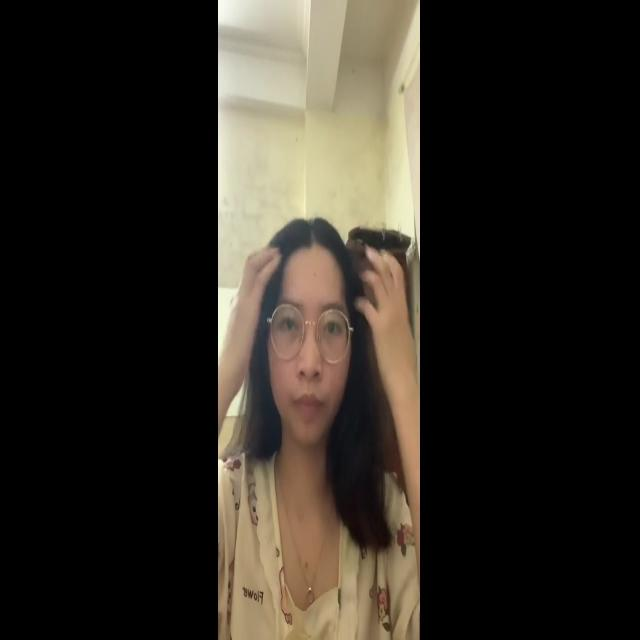student: (223, 177, 401, 616)
